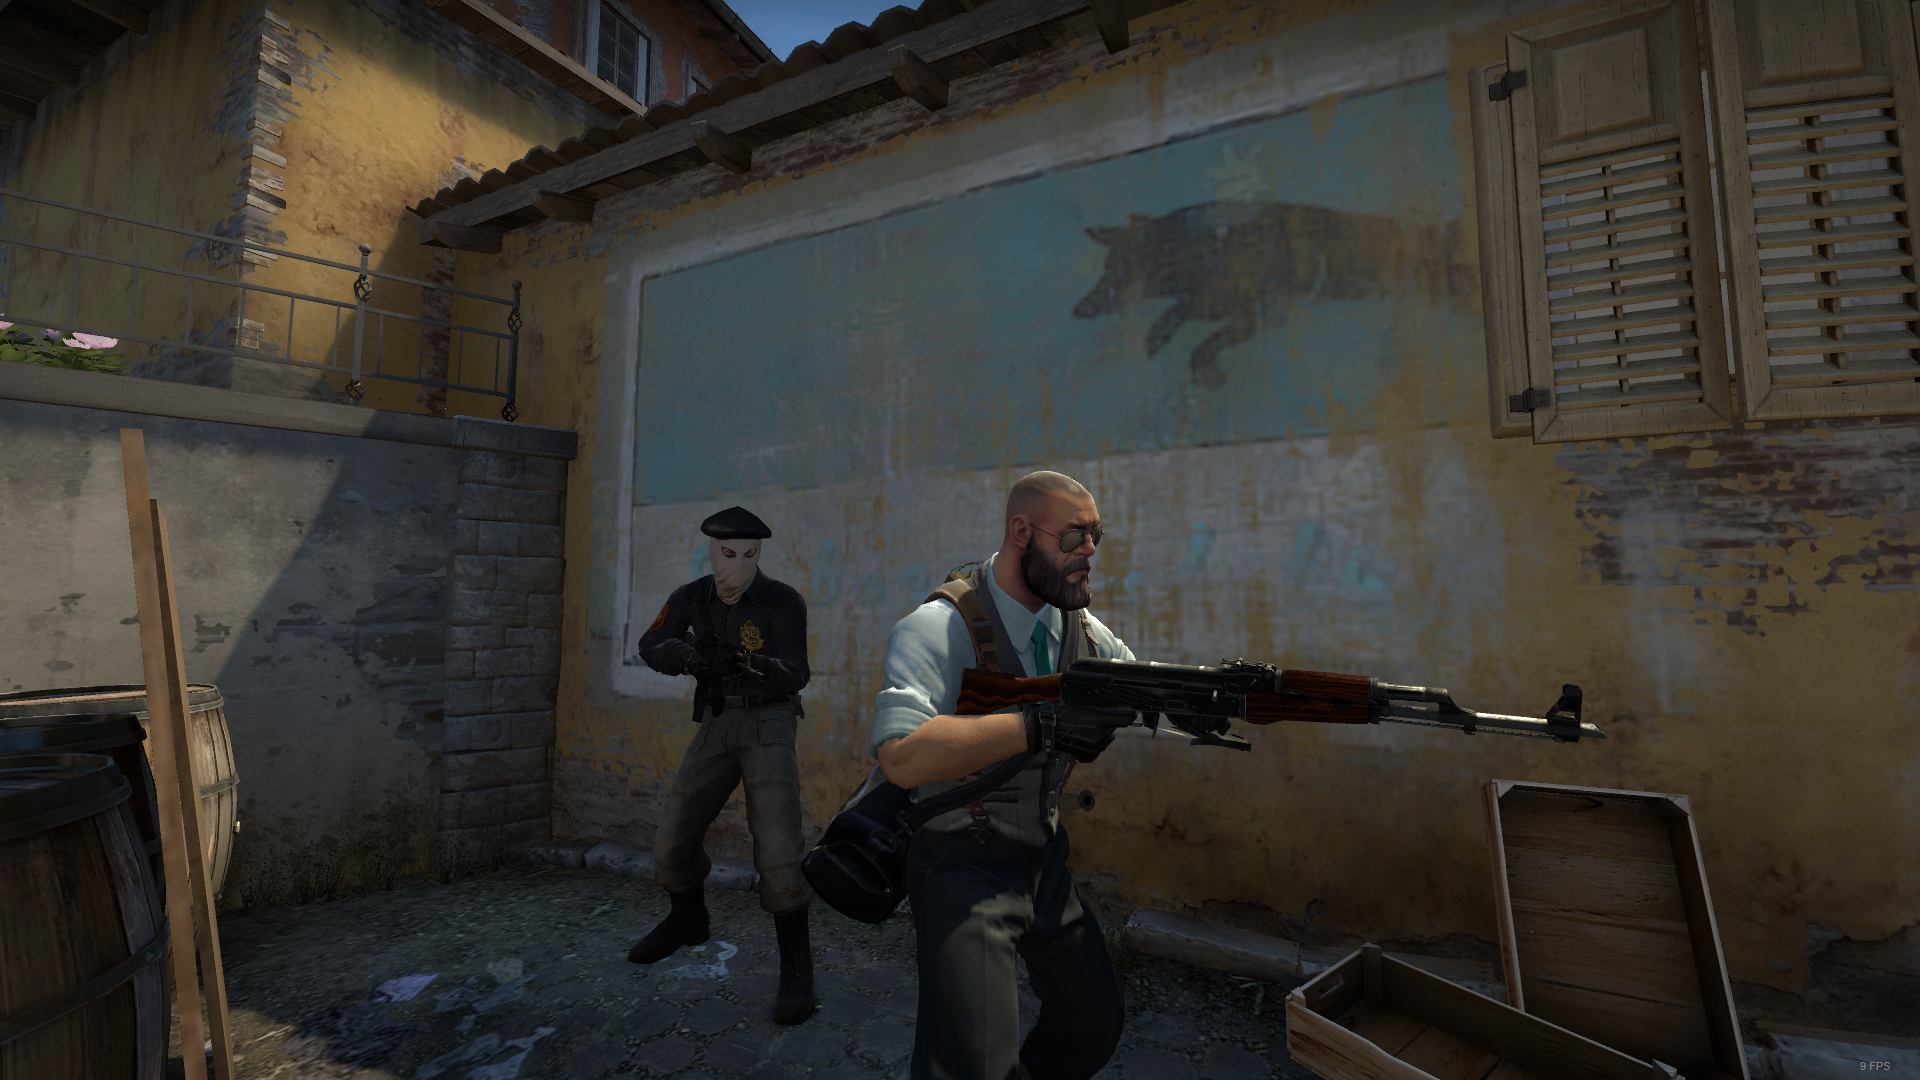t: (626, 504, 820, 1029)
